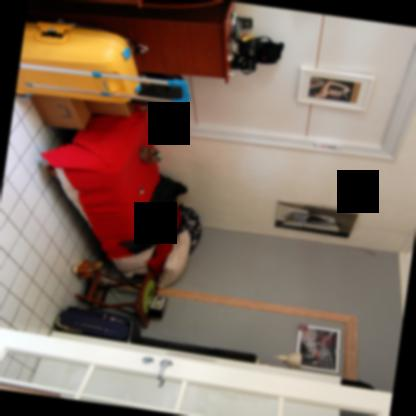suitcase: (14, 21, 142, 102), (53, 304, 141, 344)
